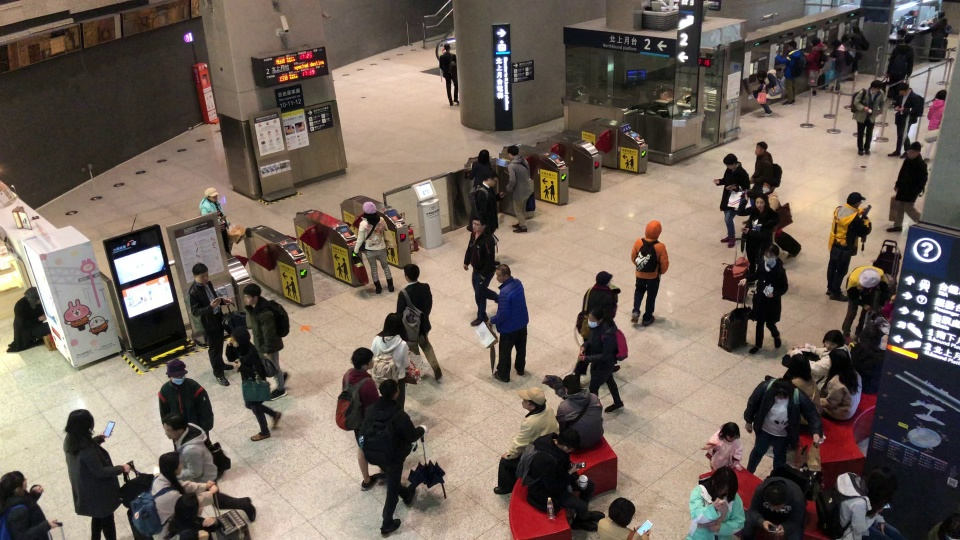person_head: (866, 464, 897, 499), (172, 493, 204, 523), (607, 496, 635, 527), (65, 409, 94, 438), (162, 412, 188, 439), (158, 450, 183, 478), (763, 481, 787, 510), (517, 386, 545, 410), (827, 348, 851, 375), (1, 470, 27, 494), (714, 468, 736, 496), (350, 346, 374, 371), (557, 428, 581, 453), (165, 358, 188, 384), (790, 354, 813, 379), (382, 311, 405, 335), (938, 514, 960, 539), (858, 267, 881, 289), (379, 377, 400, 400), (242, 282, 262, 306), (822, 329, 844, 350), (231, 327, 251, 348), (772, 379, 794, 398), (562, 373, 581, 394), (762, 243, 780, 265), (720, 421, 740, 440), (191, 262, 209, 283), (645, 219, 663, 240), (846, 190, 867, 208), (586, 307, 603, 328), (403, 262, 420, 282), (495, 263, 512, 283), (594, 269, 613, 286), (482, 169, 498, 187), (471, 215, 487, 232), (722, 152, 738, 169), (362, 200, 377, 216), (762, 179, 777, 195), (907, 140, 921, 157), (203, 186, 219, 200), (755, 140, 769, 156), (754, 195, 767, 211), (476, 148, 490, 162), (25, 286, 38, 301), (870, 78, 883, 92), (507, 144, 519, 159), (934, 88, 947, 101), (903, 32, 915, 46), (898, 82, 910, 96), (830, 38, 841, 49), (756, 69, 767, 79), (811, 36, 821, 46), (788, 39, 797, 50), (937, 10, 946, 19), (443, 41, 451, 51), (852, 25, 860, 35)
person_vbox: (358, 378, 429, 539), (160, 411, 256, 522), (516, 427, 605, 532), (63, 408, 131, 538), (742, 376, 824, 477), (131, 451, 217, 540), (492, 386, 559, 494), (814, 463, 901, 540), (225, 327, 282, 443), (335, 346, 380, 490), (764, 354, 824, 458), (572, 306, 629, 414), (739, 463, 819, 539), (736, 242, 789, 356), (187, 262, 234, 387), (395, 262, 443, 382), (243, 282, 291, 401), (484, 263, 530, 383), (824, 190, 872, 304), (764, 328, 851, 390), (157, 359, 214, 451), (684, 466, 745, 540), (629, 218, 670, 327), (884, 140, 929, 234), (463, 214, 499, 327), (369, 311, 410, 410), (582, 269, 621, 373), (1, 470, 57, 540), (740, 194, 778, 296), (353, 200, 394, 294), (555, 373, 604, 450), (841, 265, 888, 344), (712, 151, 750, 248), (468, 169, 505, 265), (818, 348, 862, 422), (886, 82, 925, 158), (465, 149, 499, 233), (849, 79, 884, 157), (6, 285, 46, 352), (505, 144, 534, 232), (883, 31, 915, 106), (597, 496, 651, 540), (774, 39, 806, 107), (199, 186, 231, 252), (701, 421, 743, 471), (750, 141, 782, 205), (922, 86, 948, 162), (803, 35, 828, 97), (753, 68, 784, 117), (438, 42, 459, 105), (829, 37, 853, 91), (848, 25, 870, 82), (762, 181, 781, 243), (927, 514, 960, 538), (928, 10, 952, 39)
